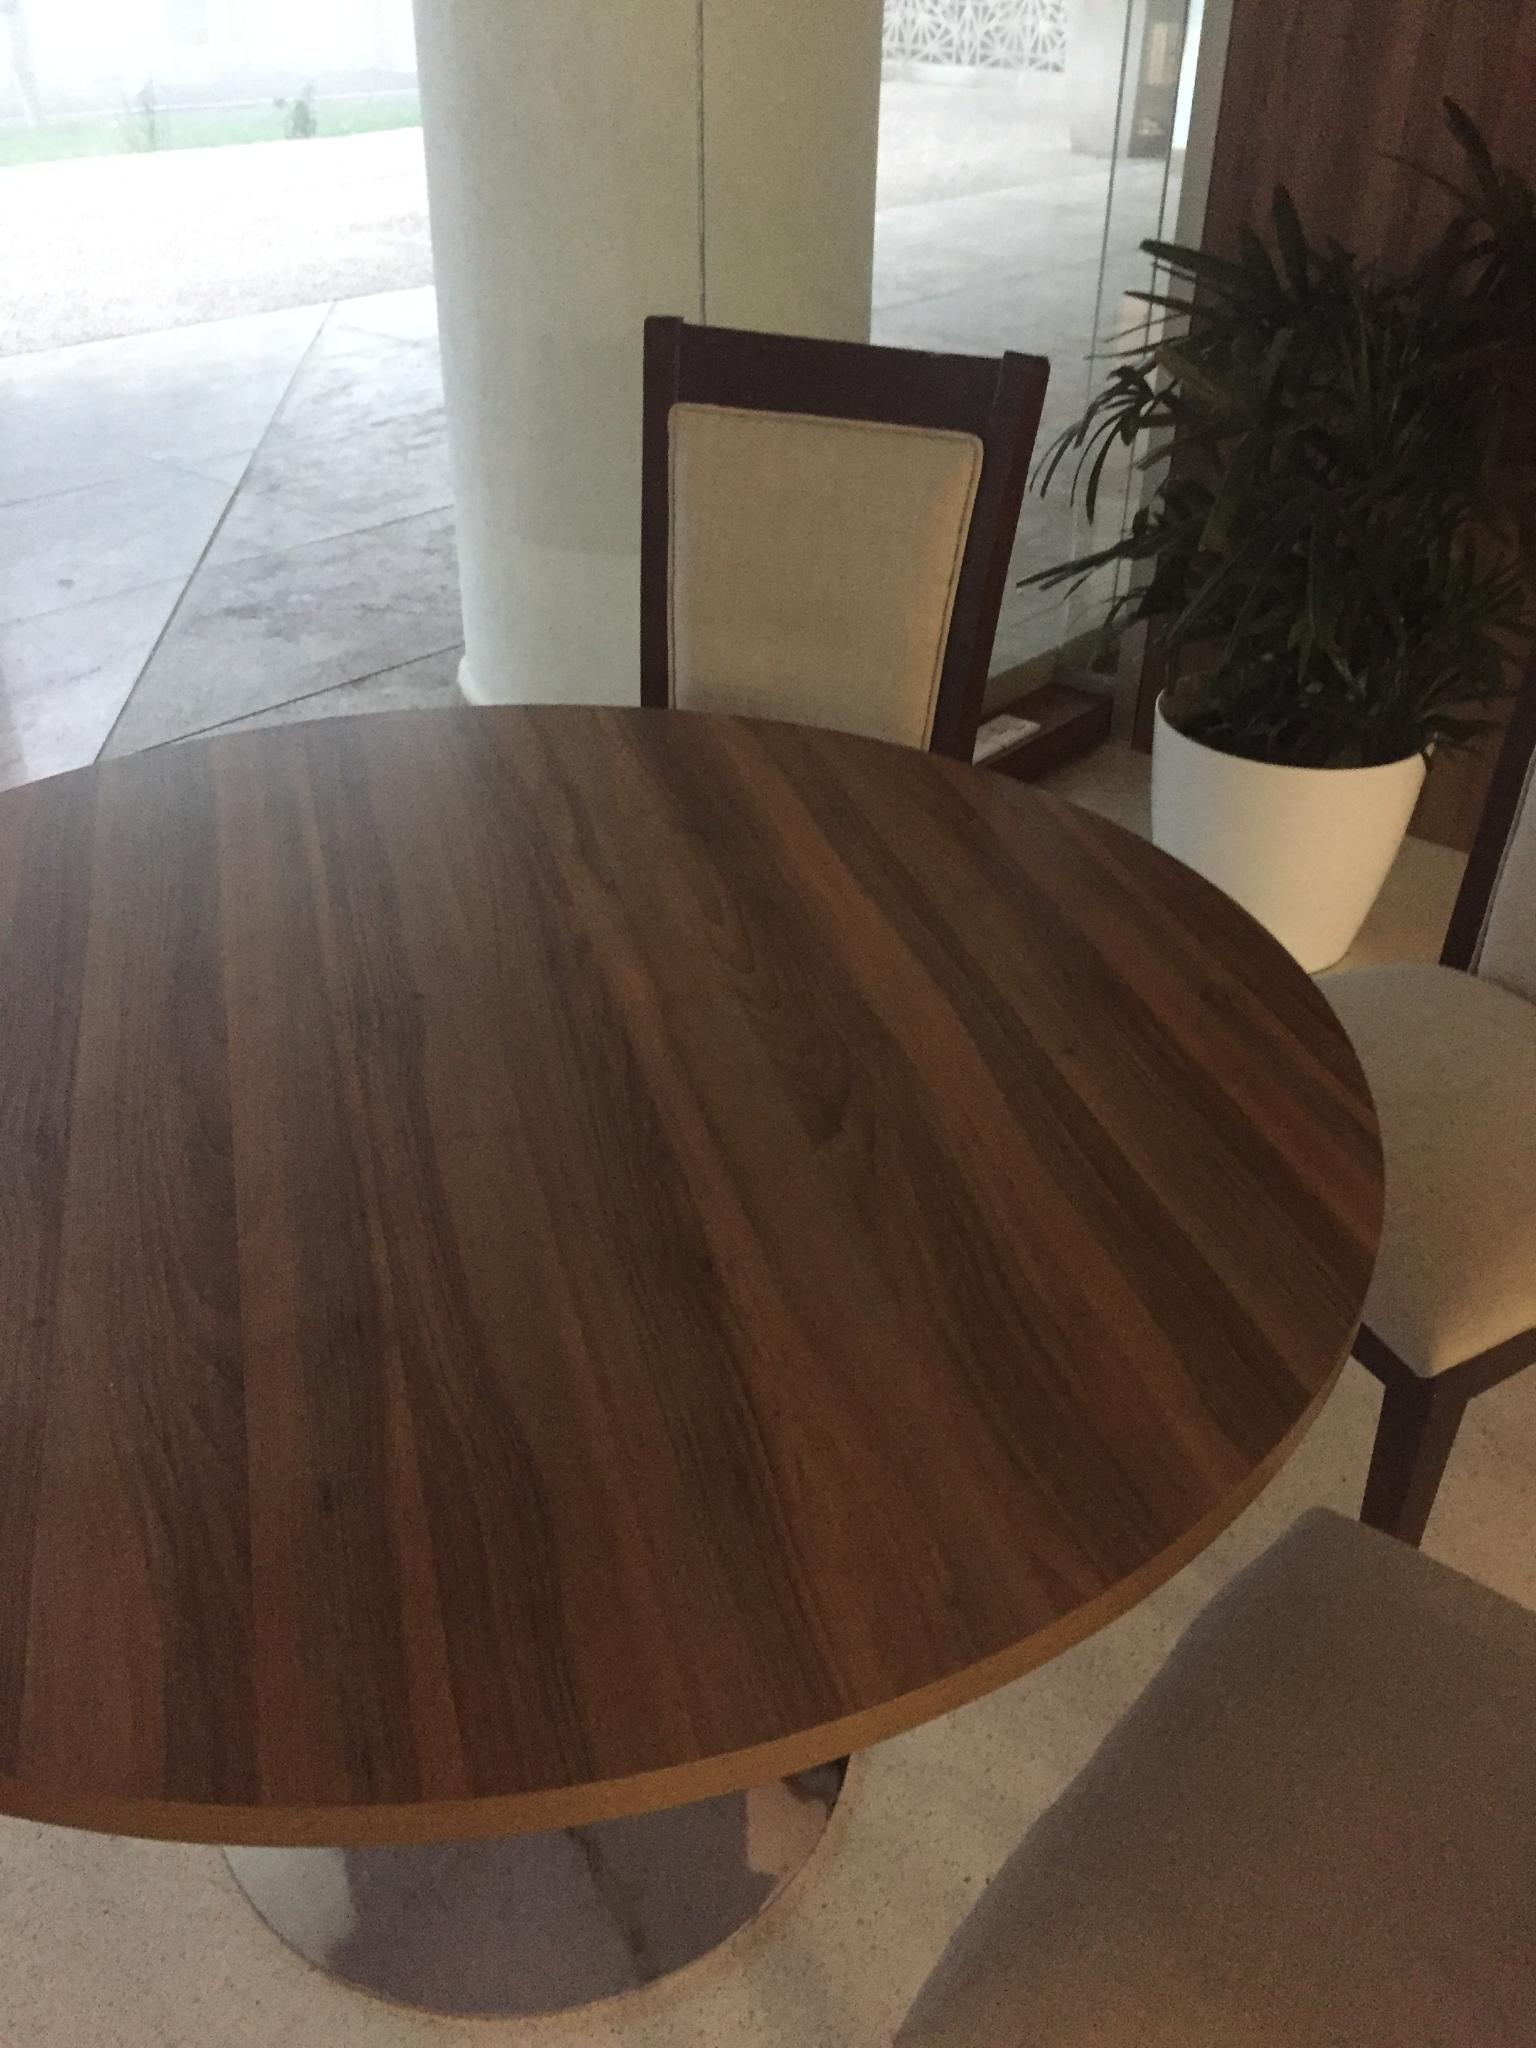chair: (631, 311, 1086, 1000), (1310, 663, 1534, 1548)
